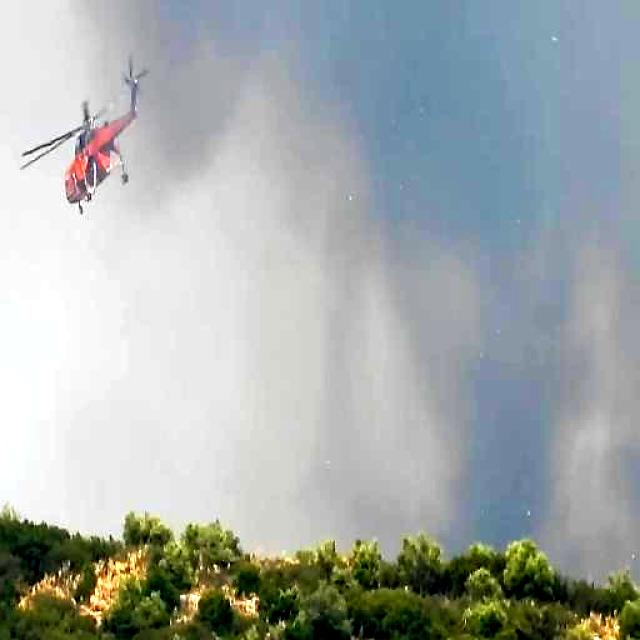drone: (18, 51, 150, 219)
